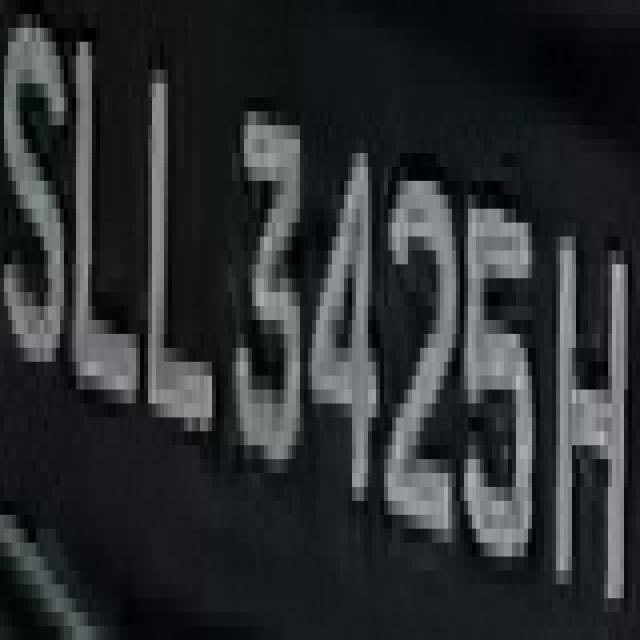2: (384, 84, 468, 598)
3: (224, 42, 304, 515)
4: (300, 70, 380, 556)
5: (448, 181, 540, 570)
H: (3, 5, 4, 14)
L: (124, 42, 216, 487), (60, 14, 136, 445)
S: (8, 28, 60, 403)
